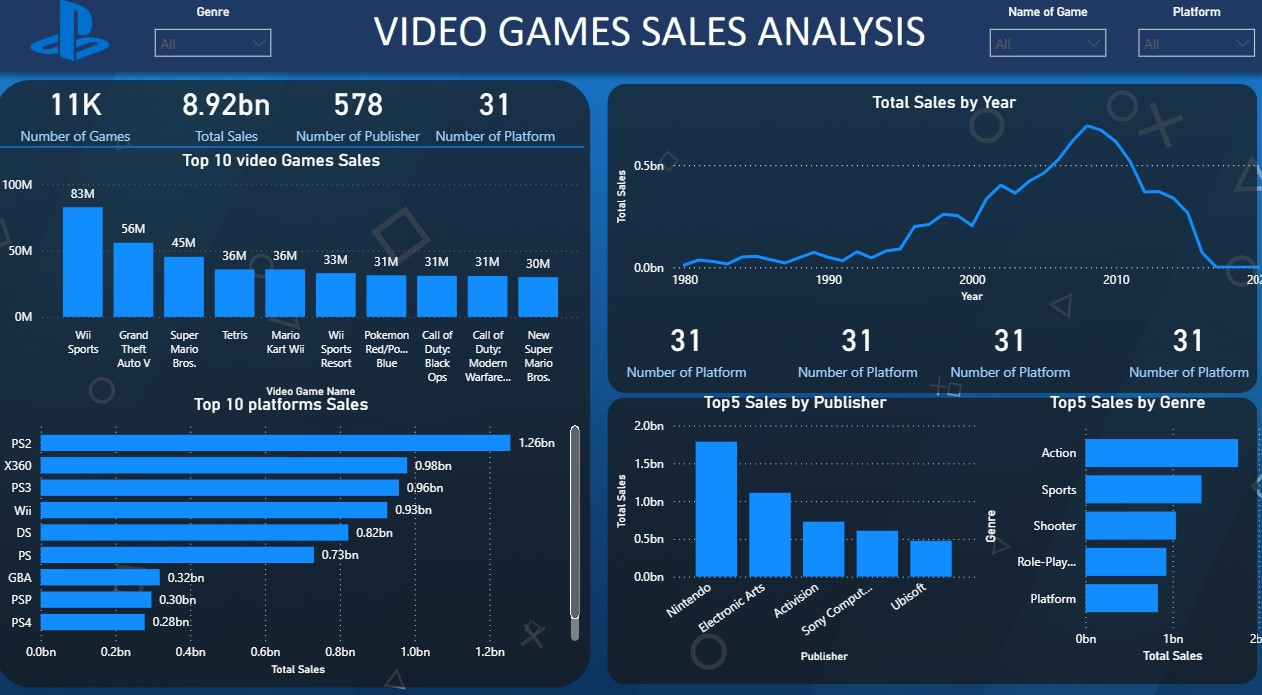

Layout of this report page (visuals, bound fields, positions):
{"tool":"powerbi","page":{"name":"Sales","canvas":[1280,720],"ordinal":1},"visuals":[{"type":"shape","box":[0,21.7,596,279.9],"z":0},{"type":"card","title":"Number of Games","fields":{"Values":["VideoGames2.Unique Games Count"]},"box":[20.5,88.1,149.6,77.2],"z":1000},{"type":"card","title":"Number of Games","fields":{"Values":["Sum(VideoGames2.Global_Sales)"]},"box":[170.1,88.1,149.6,77.2],"z":2000},{"type":"card","title":"Number of Games","fields":{"Values":["Count(VideoGames2.Publisher)"]},"box":[298,88.1,149.6,77.2],"z":3000},{"type":"card","title":"Number of Games","fields":{"Values":["Count(VideoGames2.Platform)"]},"box":[434.3,88.1,149.6,77.2],"z":4000},{"type":"clusteredColumnChart","title":"Top 10 video Games  Sales","fields":{"Category":["VideoGames2.Name"],"Y":["Sum(VideoGames2.Global_Sales)"]},"box":[0,164.1,596,248.5],"z":5000},{"type":"clusteredBarChart","title":"Top 10 platforms Sales","fields":{"Y":["Sum(VideoGames2.Global_Sales)"],"Category":["VideoGames2.Platform"]},"box":[0,404.2,596,282.3],"z":6000},{"type":"lineChart","title":"Total Sales by Year","fields":{"Y":["Sum(VideoGames2.Global_Sales)"],"Category":["VideoGames2.Year"]},"box":[621.3,108.6,656.3,212.3],"z":7000},{"type":"clusteredColumnChart","title":"Top5 Sales by Publisher","fields":{"Y":["Sum(VideoGames2.Global_Sales)"],"Category":["VideoGames2.Publisher"]},"box":[621.3,403,363.1,271.4],"z":8000},{"type":"clusteredBarChart","title":"Top5 Sales by Genre","fields":{"Category":["VideoGames2.Genre"],"Y":["Sum(VideoGames2.Global_Sales)"]},"box":[984.5,403,292,271.4],"z":9000},{"type":"slicer","title":"Name of Game","fields":{"Values":["VideoGames2.Name"]},"box":[984.5,21.7,135.1,66.4],"z":10000},{"type":"slicer","title":"Platform","fields":{"Values":["VideoGames2.Platform"]},"box":[1130.4,21.7,135.1,66.4],"z":11000},{"type":"card","title":"Number of Games","fields":{"Values":["Count(VideoGames2.Platform)"]},"box":[621.3,320.9,149.6,77.2],"z":12000},{"type":"card","title":"Number of Games","fields":{"Values":["Count(VideoGames2.Platform)"]},"box":[790.2,320.9,149.6,77.2],"z":13000},{"type":"card","title":"Number of Games","fields":{"Values":["Count(VideoGames2.Platform)"]},"box":[939.8,320.9,149.6,77.2],"z":14000},{"type":"card","title":"Number of Games","fields":{"Values":["Count(VideoGames2.Platform)"]},"box":[1116,320.9,149.6,77.2],"z":15000},{"type":"slicer","title":"Genre","fields":{"Values":["VideoGames2.Genre"]},"box":[163.4,22.1,135.2,66.3],"z":15001}]}

Visuals, with their boxes in screenshot pixels (x1, y1, x2, y2), scaled from the page's 1280x720 canvas onto the 1262x695 screenshot:
shape: 0:21:588:291
"Number of Games" card: 20:85:168:160
"Number of Games" card: 168:85:315:160
"Number of Games" card: 294:85:441:160
"Number of Games" card: 428:85:576:160
"Top 10 video Games  Sales" clusteredColumnChart: 0:158:588:398
"Top 10 platforms Sales" clusteredBarChart: 0:390:588:663
"Total Sales by Year" lineChart: 613:105:1260:310
"Top5 Sales by Publisher" clusteredColumnChart: 613:389:971:651
"Top5 Sales by Genre" clusteredBarChart: 971:389:1259:651
"Name of Game" slicer: 971:21:1104:85
"Platform" slicer: 1115:21:1248:85
"Number of Games" card: 613:310:760:384
"Number of Games" card: 779:310:927:384
"Number of Games" card: 927:310:1074:384
"Number of Games" card: 1100:310:1248:384
"Genre" slicer: 161:21:294:85
